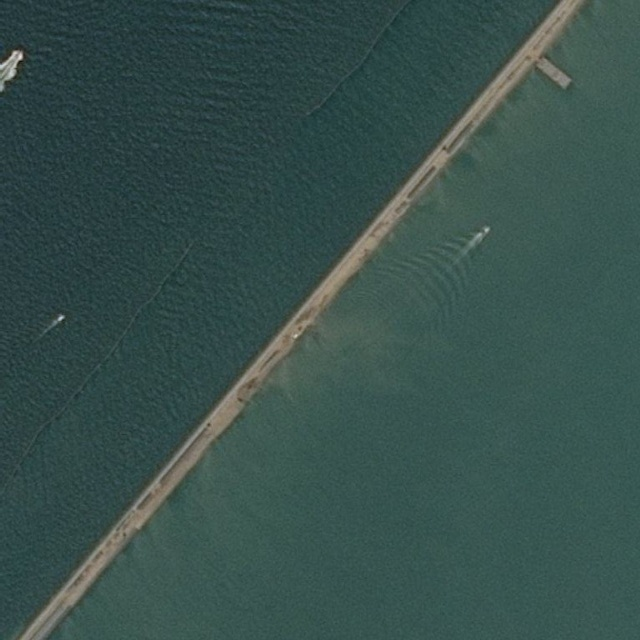wake: (379, 187, 527, 336)
